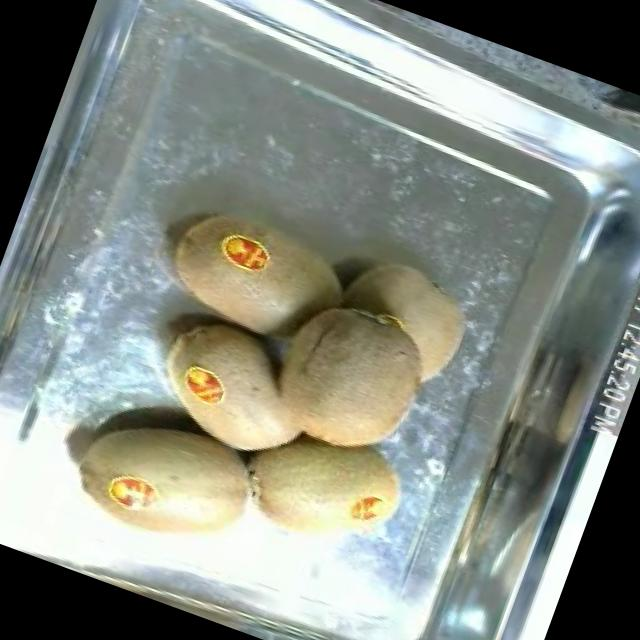Fruit: (51, 384, 283, 583), (240, 278, 450, 493), (214, 396, 426, 578), (144, 205, 287, 342)
